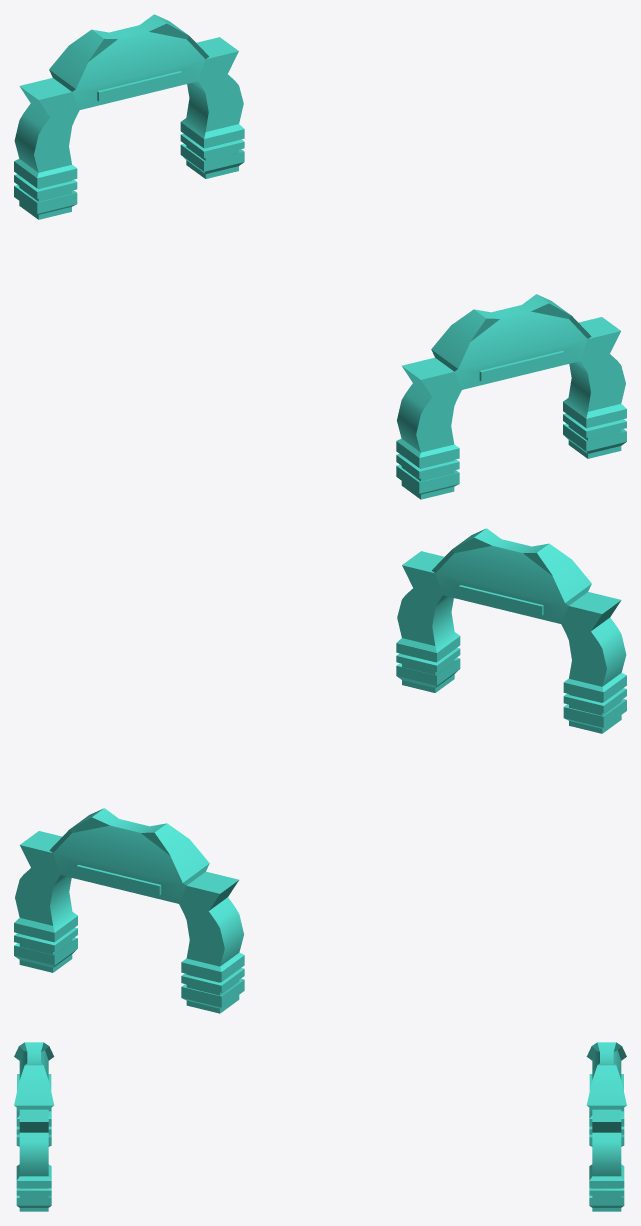
File: F_łuk.fbx
3 renders of one model, top to bottom at view 1: azimuth 30°, elevation 25°; view 2: azimuth 150°, elevation 25°; view 3: azimuth 270°, elevation 25°, orthographic. The views are drawn at different scales.
Visible parts, largest first — view 1: F_łuk, F_łuk.001; view 2: F_łuk.001, F_łuk; view 3: F_łuk, F_łuk.001.
Part boxes in pixels (x1,y1,x2,y2): F_łuk: (14,14,244,219); F_łuk.001: (396,294,626,499); F_łuk.001: (396,528,626,733); F_łuk: (14,808,244,1013); F_łuk: (586,1042,626,1211); F_łuk.001: (14,1042,54,1211).
Bounding box in the file's own units: 1254 × 924 × 4232.
